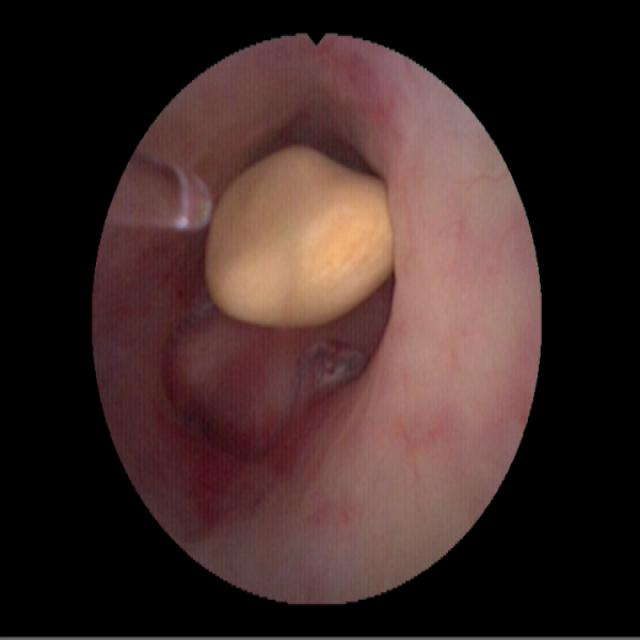stone: (204, 145, 392, 327)
tissue: (100, 38, 535, 594)
